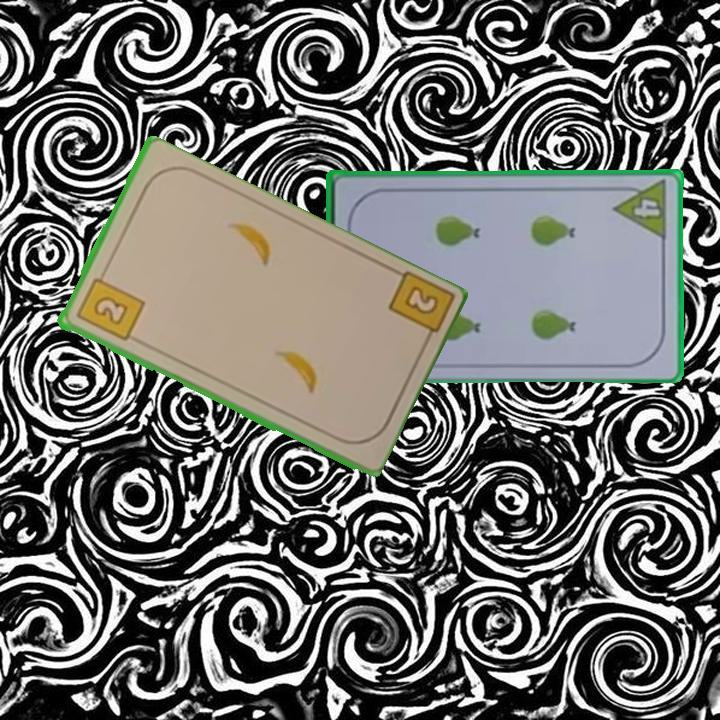2b: (383, 268, 454, 351), (72, 267, 147, 345)
4p: (611, 177, 671, 242)
